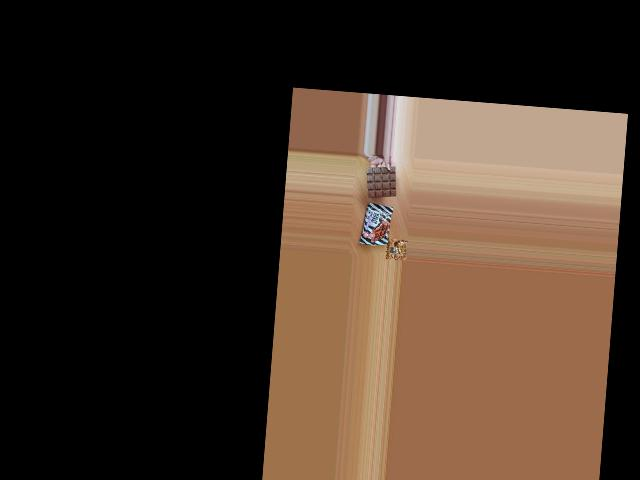chocolate: (359, 200, 392, 248)
